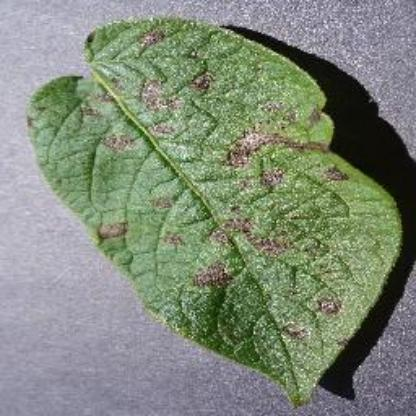Early-Blight: (26, 14, 402, 408)
